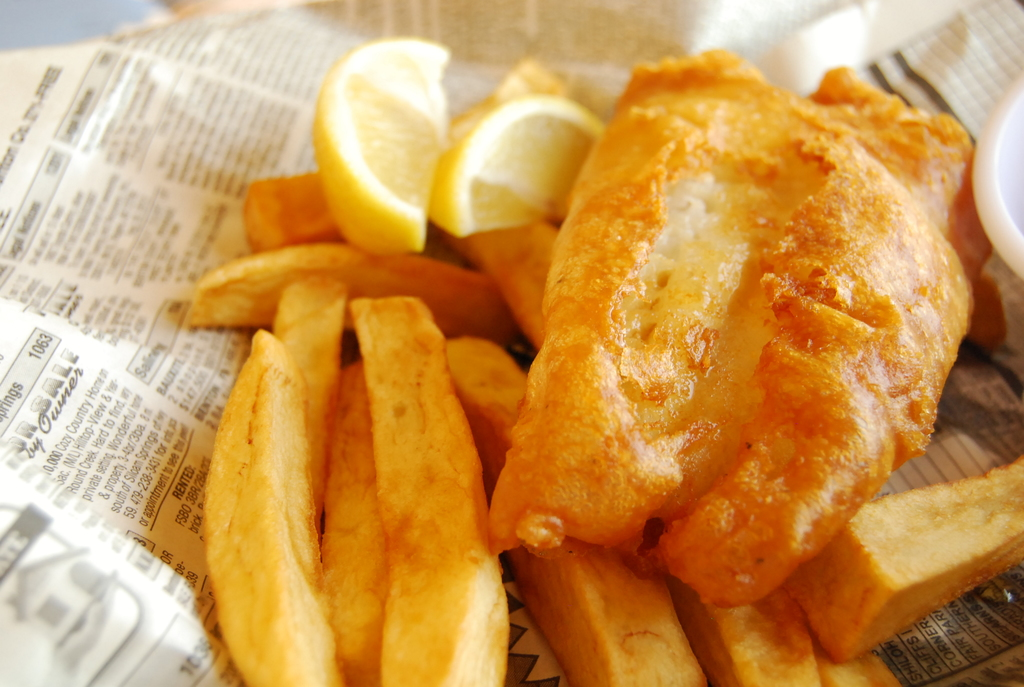French fries: (186, 169, 1023, 686)
